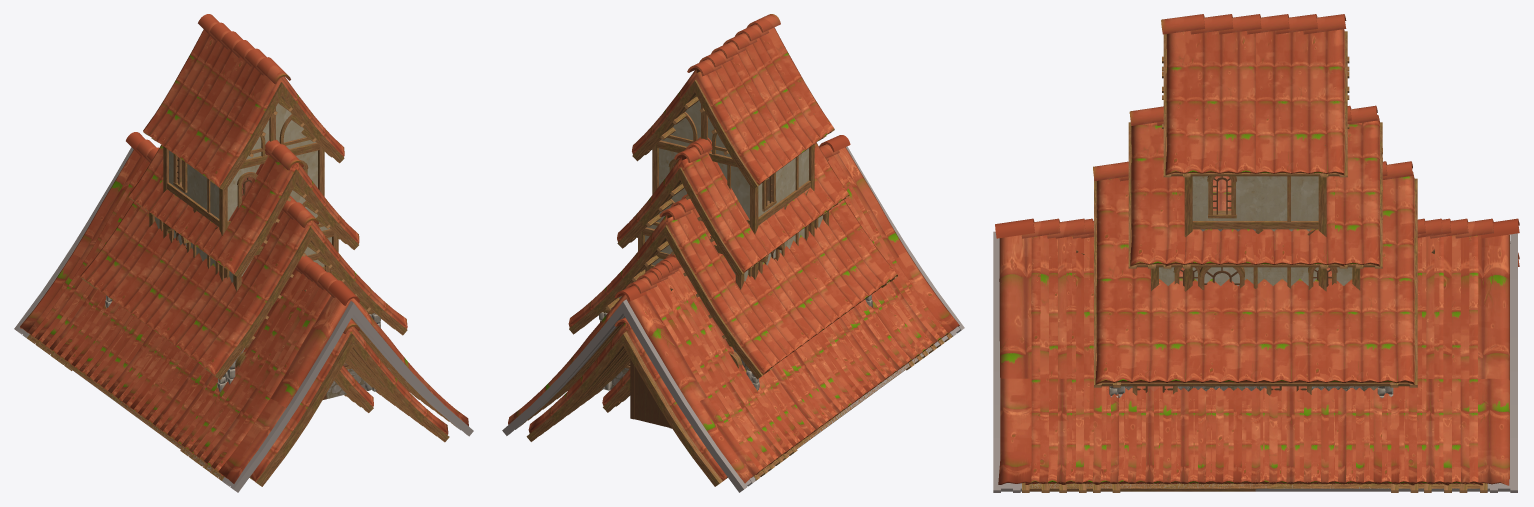
The model's file is village_modular.glb.
3 views of the same model, side by side, from view 1: azimuth 30°, elevation 25°; view 2: azimuth 150°, elevation 25°; view 3: azimuth 270°, elevation 25° (orthographic). The views are drawn at different scales.
Parts seen in each view (by area): view 1: Roof_RoundTiles_8x14, House_Stone_6x8__83, House_Tall_4x4__167, Roof_RoundTiles_8x12, House_Plaster_4x6__146, Roof_RoundTiles_6x14, Roof_RoundTiles_8x10, Roof_RoundTiles_8x8, House_Tall_4x4__170, House_StonePlaster_4x4__116, House_Tall_4x4__140, Roof_RoundTiles_4x8 (+4 smaller); view 2: Roof_RoundTiles_8x14, House_Stone_6x8__83, House_Tall_4x4__167, House_Plaster_4x6__146, Roof_RoundTiles_8x12, Roof_RoundTiles_8x10, Roof_RoundTiles_6x14, Roof_RoundTiles_8x8, House_Tall_4x4__173, House_StonePlaster_4x4__116, Stair_Interior_SolidExtended, House_Tall_4x4__140 (+5 smaller); view 3: Roof_RoundTiles_8x14, House_Stone_6x8__83, House_Tall_4x4__167, Roof_RoundTiles_8x12, House_Plaster_4x6__146, Roof_RoundTiles_8x10, Roof_RoundTiles_8x8, House_StonePlaster_4x4__116, House_Tall_4x4__131, House_Tall_4x4__125, House_StonePlaster_4x4__80, House_Tall_4x4__128 (+1 smaller).
Boxes of the visible parts, x1=… form: Roof_RoundTiles_8x14: x1=14, y1=132, x2=473, y2=492; House_Stone_6x8__83: x1=80, y1=196, x2=407, y2=379; House_Tall_4x4__167: x1=143, y1=14, x2=344, y2=190; Roof_RoundTiles_8x12: x1=27, y1=139, x2=456, y2=480; House_Plaster_4x6__146: x1=128, y1=139, x2=359, y2=277; Roof_RoundTiles_6x14: x1=249, y1=319, x2=449, y2=486; Roof_RoundTiles_8x10: x1=42, y1=255, x2=441, y2=471; Roof_RoundTiles_8x8: x1=56, y1=273, x2=427, y2=460; House_Tall_4x4__170: x1=221, y1=99, x2=320, y2=169; House_StonePlaster_4x4__116: x1=143, y1=147, x2=339, y2=266; House_Tall_4x4__140: x1=193, y1=169, x2=219, y2=229; Roof_RoundTiles_4x8: x1=334, y1=365, x2=373, y2=412; Roof_RoundTiles_8x14: x1=502, y1=135, x2=964, y2=492; House_Stone_6x8__83: x1=568, y1=194, x2=897, y2=379; House_Tall_4x4__167: x1=632, y1=14, x2=834, y2=189; House_Plaster_4x6__146: x1=617, y1=137, x2=849, y2=276; Roof_RoundTiles_8x12: x1=520, y1=144, x2=952, y2=480; Roof_RoundTiles_8x10: x1=535, y1=254, x2=936, y2=471; Roof_RoundTiles_6x14: x1=526, y1=317, x2=727, y2=486; Roof_RoundTiles_8x8: x1=549, y1=294, x2=922, y2=460; House_Tall_4x4__173: x1=656, y1=96, x2=737, y2=167; House_StonePlaster_4x4__116: x1=637, y1=138, x2=834, y2=264; Stair_Interior_SolidExtended: x1=630, y1=359, x2=671, y2=428; House_Tall_4x4__140: x1=782, y1=148, x2=810, y2=209; Roof_RoundTiles_8x14: x1=993, y1=218, x2=1519, y2=492; House_Stone_6x8__83: x1=1093, y1=161, x2=1417, y2=387; House_Tall_4x4__167: x1=1161, y1=14, x2=1347, y2=177; Roof_RoundTiles_8x12: x1=1021, y1=218, x2=1493, y2=492; House_Plaster_4x6__146: x1=1128, y1=105, x2=1382, y2=268; Roof_RoundTiles_8x10: x1=1056, y1=218, x2=1451, y2=492; Roof_RoundTiles_8x8: x1=1093, y1=386, x2=1418, y2=492; House_StonePlaster_4x4__116: x1=1162, y1=121, x2=1347, y2=268; House_Tall_4x4__131: x1=1255, y1=176, x2=1318, y2=235; House_Tall_4x4__125: x1=1192, y1=176, x2=1255, y2=231; House_StonePlaster_4x4__80: x1=1257, y1=267, x2=1318, y2=288; House_Tall_4x4__128: x1=1207, y1=176, x2=1236, y2=218.
Bounding box in the file's own units: 9.95 × 14.85 × 15.71.
Materials: 12 (11 with a texture image).
